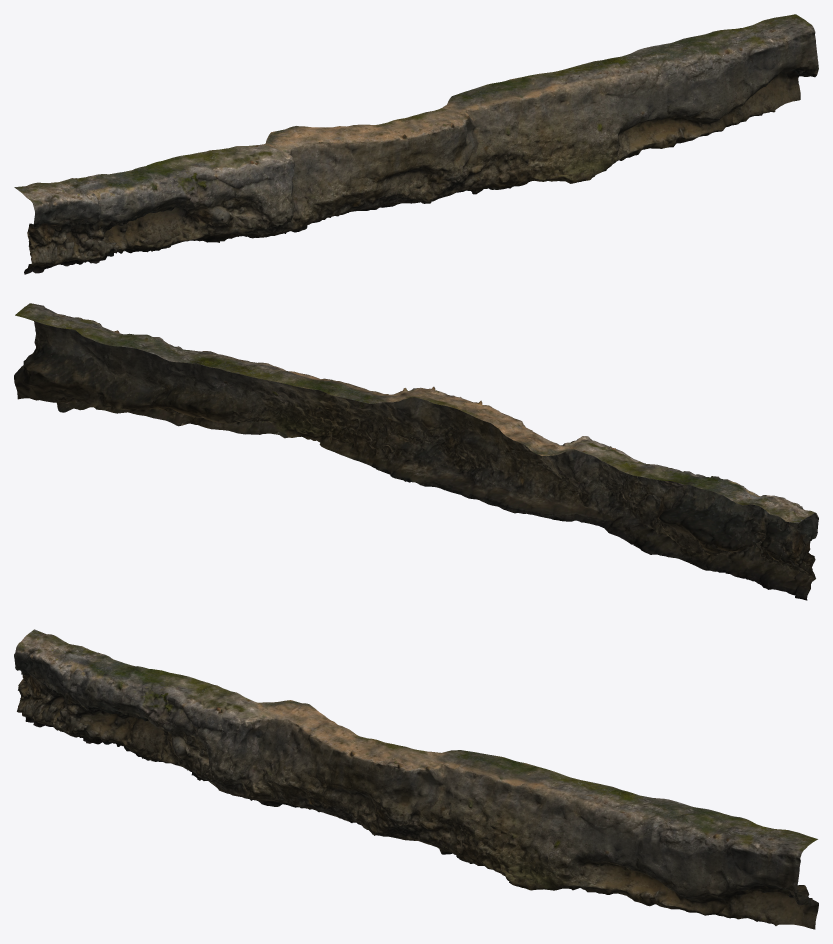
The model's file is cliff.glb.
The picture shows the model from 3 angles, top to bottom: view 1: azimuth 30°, elevation 25°; view 2: azimuth 150°, elevation 25°; view 3: azimuth 330°, elevation 25°; orthographic projection. The views are drawn at different scales.
Visible parts, largest first — view 1: coastal_cliff_01; view 2: coastal_cliff_01; view 3: coastal_cliff_01.
Boxes of the visible parts, x1,y1,x2,y2 form: coastal_cliff_01: [14, 14, 818, 274]; coastal_cliff_01: [14, 303, 818, 600]; coastal_cliff_01: [14, 629, 818, 929].
Bounding box in the file's own units: 91.94 × 10.31 × 10.97.
Materials: 1 (1 with a texture image).
